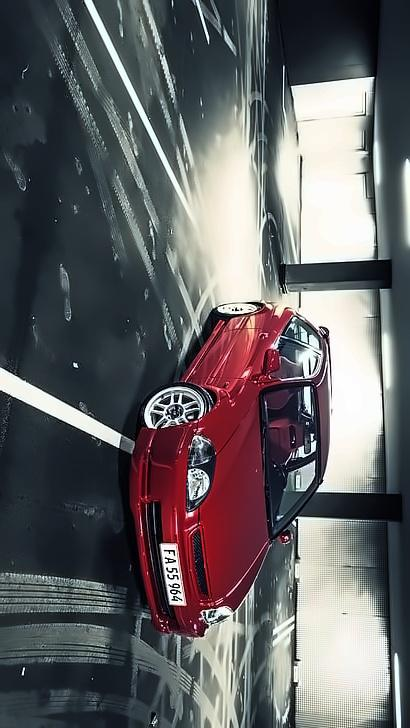Car hood: (202, 381, 273, 613)
Driver-s door - -F-R-: (177, 327, 332, 390)
Fender - -F-R-: (148, 381, 267, 459)
Fender - -R-R-: (215, 301, 299, 332)
Front bumper: (127, 419, 208, 642)
Headlight - -L-: (201, 604, 235, 629)
Headlight - -R-: (185, 436, 216, 515)
Side bumper - -R-: (175, 312, 235, 384)
Side mirror - -R-: (261, 347, 281, 382)
